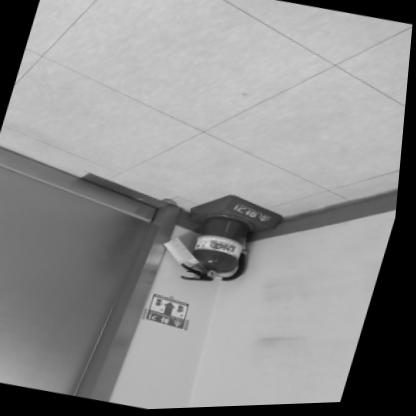FE: (173, 187, 291, 297)
